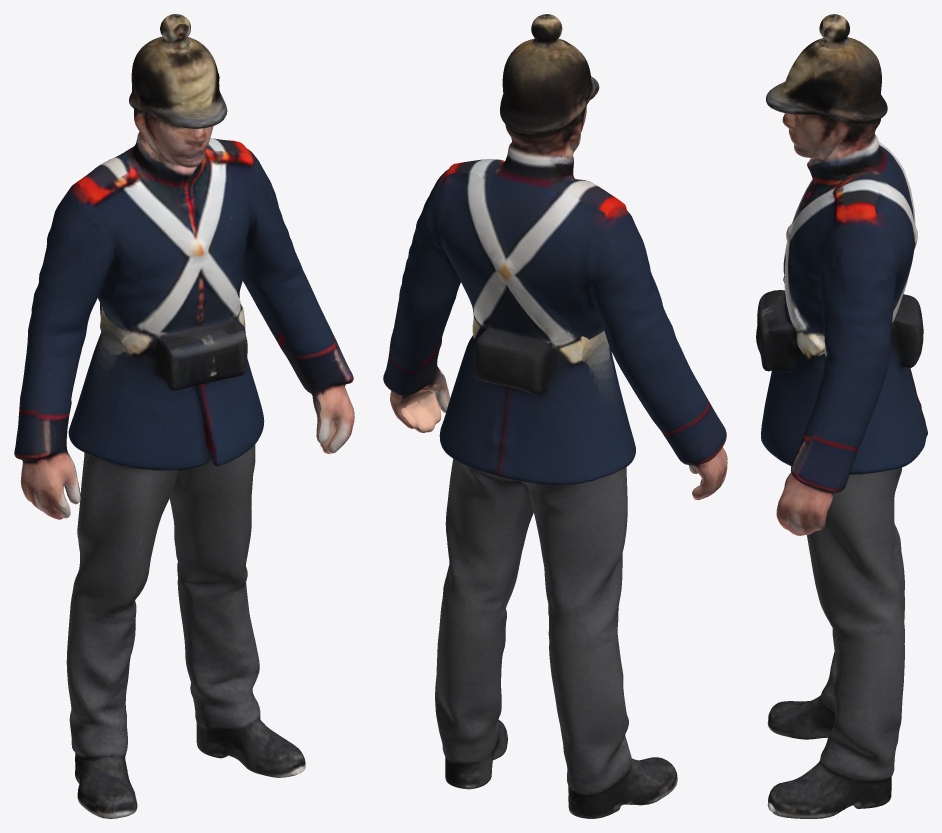
File: PR_Artilleri_1864_Apose_textured.glb
3 views of the same model, side by side, from view 1: azimuth 30°, elevation 25°; view 2: azimuth 150°, elevation 25°; view 3: azimuth 270°, elevation 25° (orthographic).
Parts seen in each view (by area): view 1: tmpnpg7z24n.ply; view 2: tmpnpg7z24n.ply; view 3: tmpnpg7z24n.ply.
Boxes of the visible parts, x1,y1,x2,y2 form: tmpnpg7z24n.ply: (14,14,354,818); tmpnpg7z24n.ply: (383,14,727,818); tmpnpg7z24n.ply: (756,14,927,818).
Size of the model in its own units: 0.9017 by 1.99 by 0.4122.
Materials: 1 (1 with a texture image).
